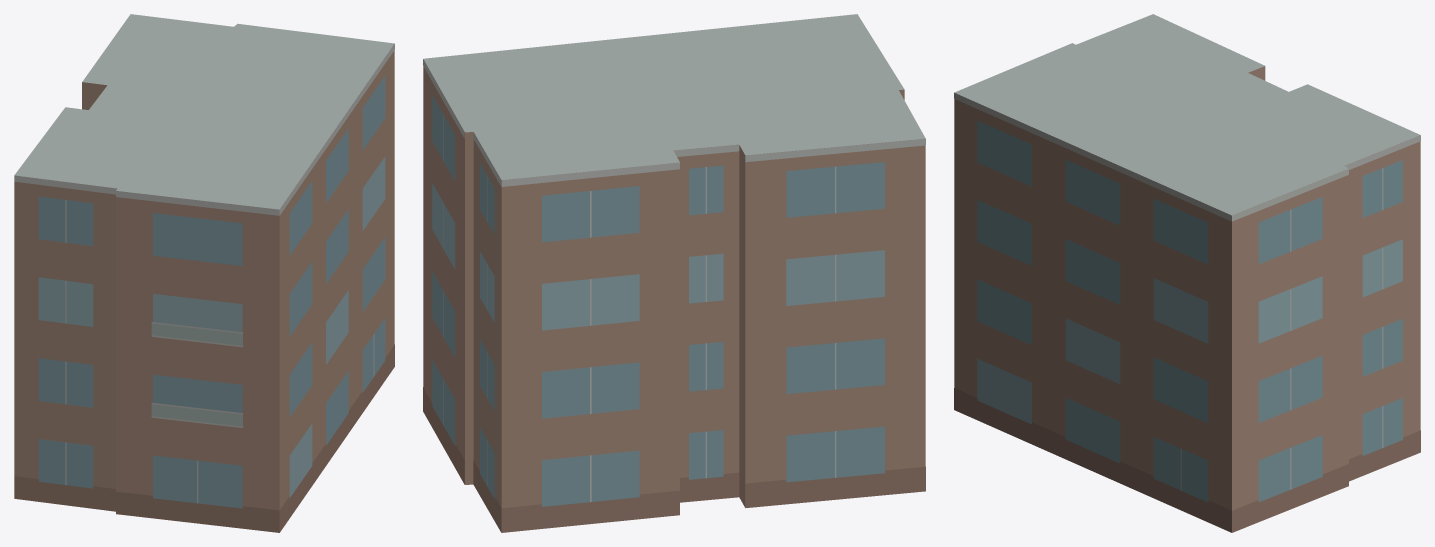
File: survey-upis-33033478.glb
The picture shows the model from 3 angles, left to right: view 1: azimuth 30°, elevation 25°; view 2: azimuth 150°, elevation 25°; view 3: azimuth 270°, elevation 25°; orthographic projection. The views are drawn at different scales.
Visible parts, largest first — view 1: survey-upis-33033478.tmp; view 2: survey-upis-33033478.tmp; view 3: survey-upis-33033478.tmp.
Boxes of the visible parts, x1=… form: survey-upis-33033478.tmp: x1=14, y1=14, x2=394, y2=532; survey-upis-33033478.tmp: x1=423, y1=14, x2=925, y2=532; survey-upis-33033478.tmp: x1=954, y1=14, x2=1420, y2=532.
Size of the model in its own units: 17.23 by 12.65 by 16.86.
